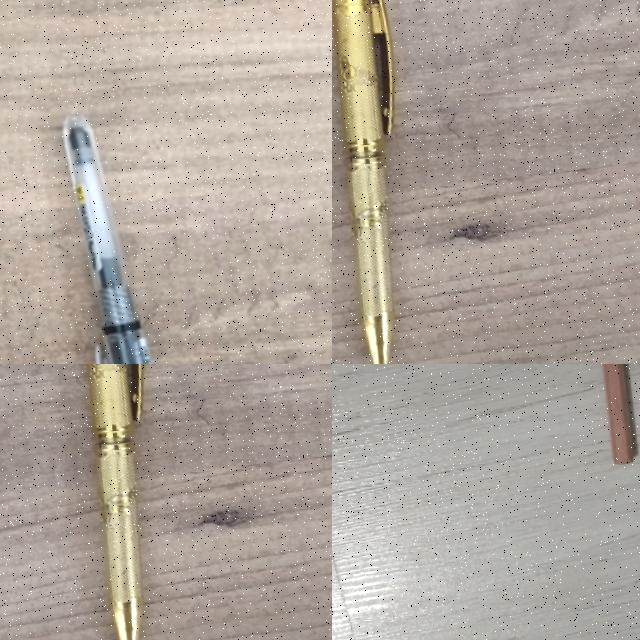pen: (62, 115, 150, 363)
pencil: (603, 364, 632, 464)
signature pen: (332, 0, 393, 363), (88, 364, 142, 639)
